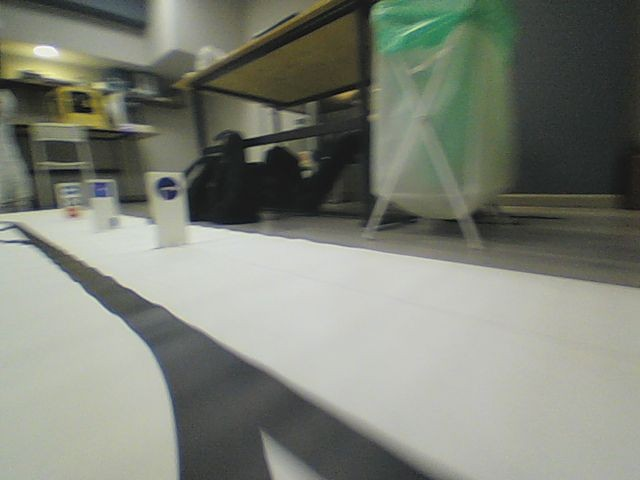Right: (155, 176, 180, 202)
